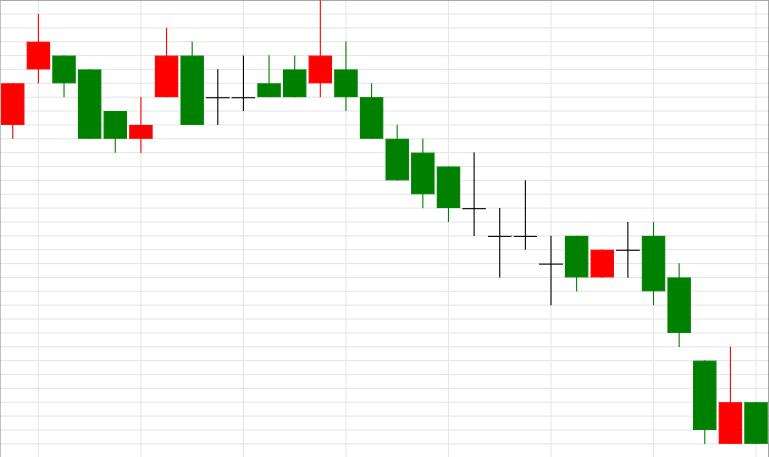inverse_hammer_rise: (617, 221, 742, 445)
